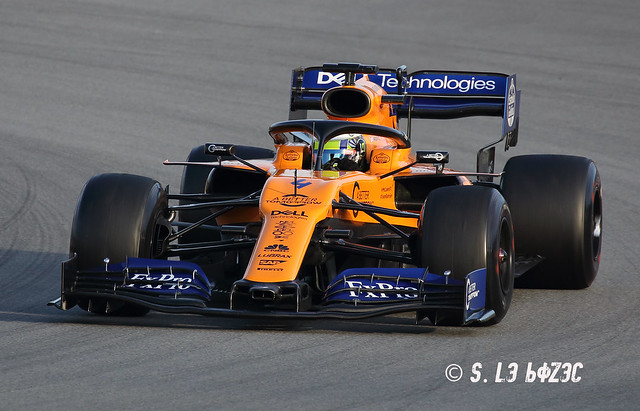F1 Car: (51, 59, 606, 336)
